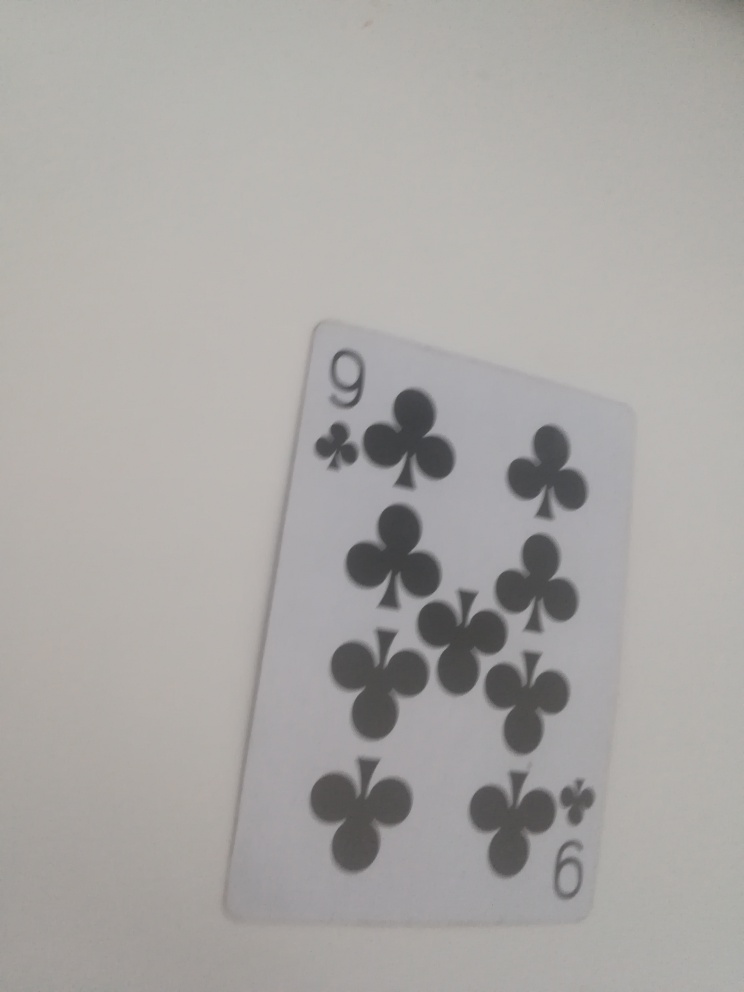9C: (305, 344, 371, 480)
